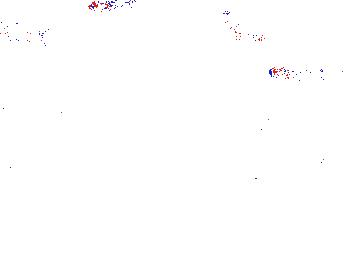X-ray fish: (321, 53, 346, 81), (257, 113, 272, 135)
glassfish: (260, 153, 346, 184)
red belly glassfish: (267, 65, 319, 81), (88, 1, 130, 13)
redtail glassfish: (220, 9, 261, 47)
